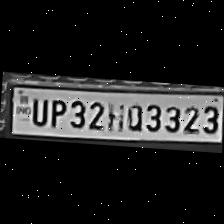2: (84, 97, 106, 131), (179, 102, 200, 134)
3: (66, 96, 86, 130), (198, 100, 218, 134), (142, 100, 162, 132), (161, 101, 181, 133)
P: (46, 94, 66, 128)
Q: (123, 99, 143, 132)
U: (28, 94, 48, 126)
